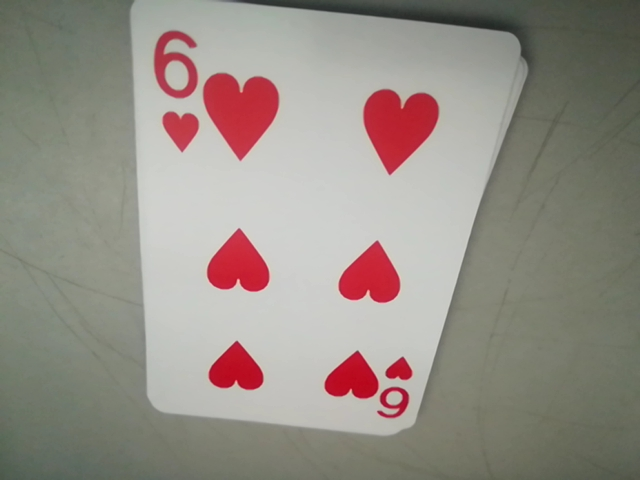hx 6: (153, 30, 200, 154), (377, 352, 414, 420)
